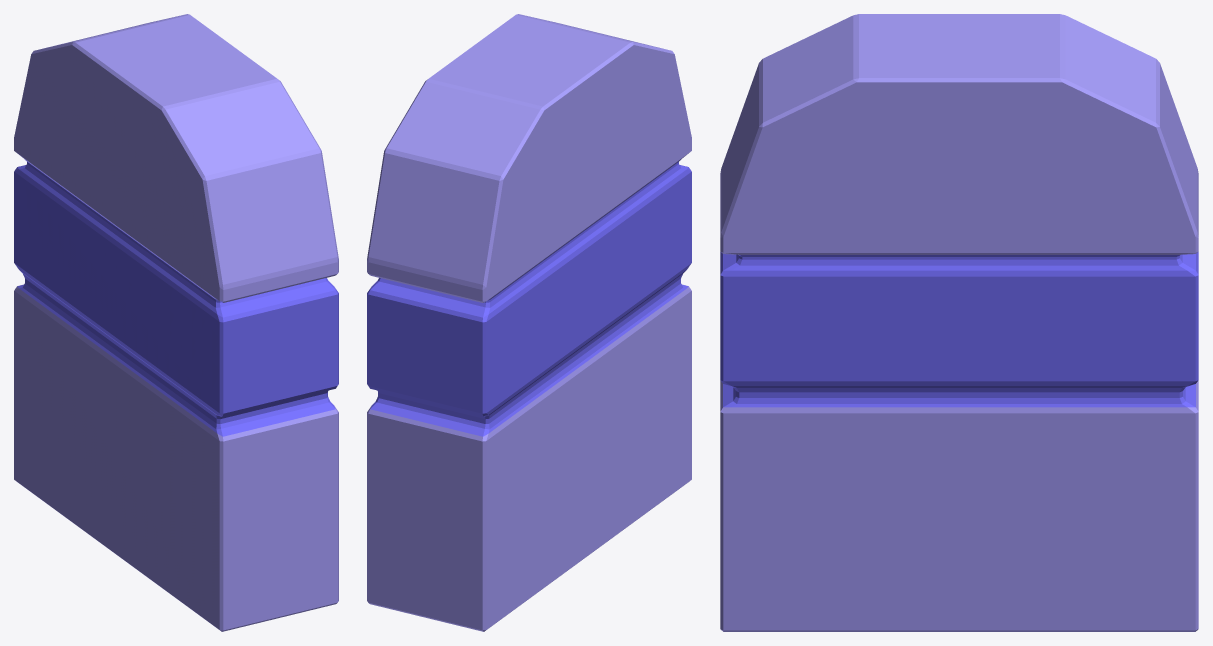
File: Tomb 3.fbx
The picture shows the model from 3 angles, left to right: view 1: azimuth 30°, elevation 25°; view 2: azimuth 150°, elevation 25°; view 3: azimuth 270°, elevation 25°; orthographic projection. The views are drawn at different scales.
Visible parts, largest first — view 1: Tomb 3; view 2: Tomb 3; view 3: Tomb 3.
Part boxes in pixels (<box>): Tomb 3: <box>14,14,338,631</box>; Tomb 3: <box>367,14,691,631</box>; Tomb 3: <box>720,14,1198,631</box>.
Bounding box in the file's own units: 61.78 × 239 × 187.
